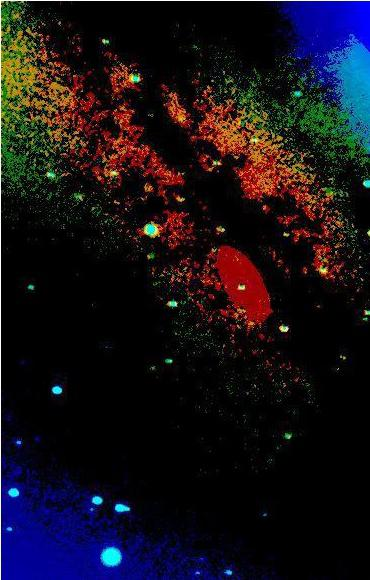star: (78, 293, 108, 323)
